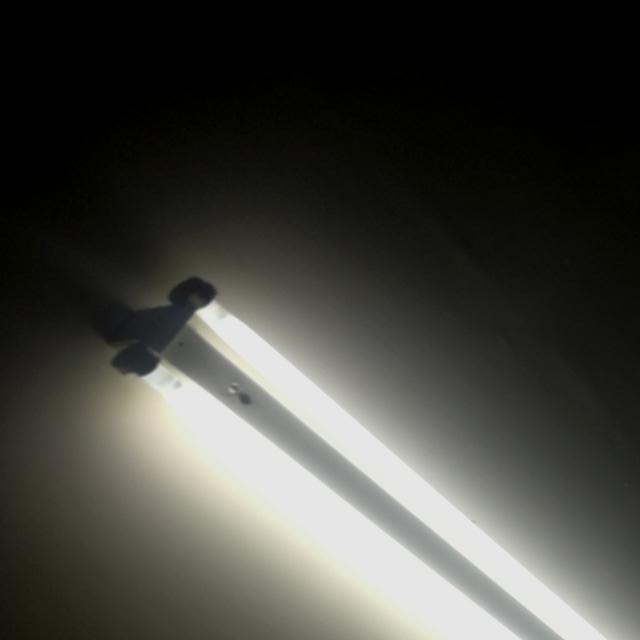fluorescent tube: (99, 269, 640, 640)
